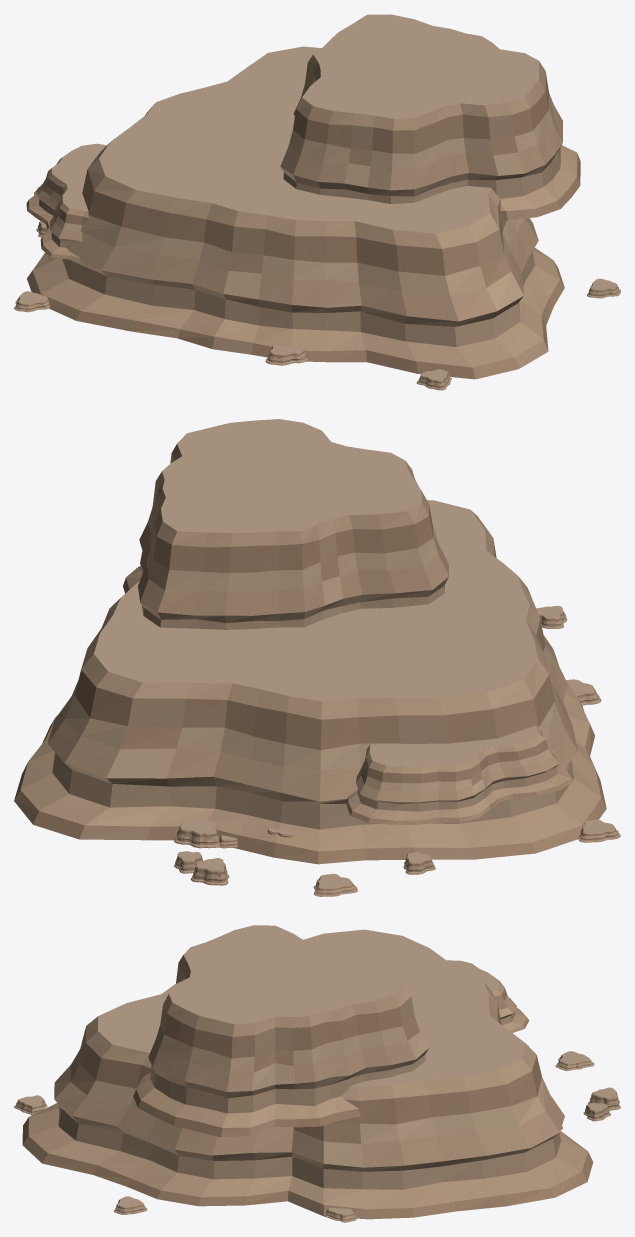
The model's file is RoadCutB.glb.
The picture shows the model from 3 angles, top to bottom: view 1: azimuth 30°, elevation 25°; view 2: azimuth 150°, elevation 25°; view 3: azimuth 270°, elevation 25°; orthographic projection. The views are drawn at different scales.
Visible parts, largest first — view 1: Collapsed quarry face, Offset bedrock crown, Detached low bench, Detached sandstone fragment.020, Detached sandstone fragment.015, Detached sandstone fragment.025; view 2: Collapsed quarry face, Offset bedrock crown, Detached low bench, Detached sandstone fragment.019, Detached sandstone fragment.024, Detached sandstone fragment.022, Detached sandstone fragment.015; view 3: Collapsed quarry face, Offset bedrock crown, Detached low bench, Detached sandstone fragment.022, Detached sandstone fragment.024, Detached sandstone fragment.025, Detached sandstone fragment.021.
Part boxes in pixels (bbox=[...]): Collapsed quarry face: bbox=[27, 46, 564, 379]; Offset bedrock crown: bbox=[280, 14, 580, 220]; Detached low bench: bbox=[26, 143, 106, 263]; Detached sandstone fragment.020: bbox=[265, 345, 307, 365]; Detached sandstone fragment.015: bbox=[14, 291, 50, 312]; Detached sandstone fragment.025: bbox=[416, 369, 451, 390]; Collapsed quarry face: bbox=[14, 500, 606, 864]; Offset bedrock crown: bbox=[123, 419, 448, 629]; Detached low bench: bbox=[346, 725, 573, 824]; Detached sandstone fragment.019: bbox=[174, 820, 219, 848]; Detached sandstone fragment.024: bbox=[191, 858, 229, 885]; Detached sandstone fragment.022: bbox=[313, 873, 357, 896]; Detached sandstone fragment.015: bbox=[578, 819, 620, 842]; Collapsed quarry face: bbox=[22, 929, 593, 1219]; Offset bedrock crown: bbox=[133, 925, 429, 1137]; Detached low bench: bbox=[447, 960, 529, 1032]; Detached sandstone fragment.022: bbox=[555, 1051, 594, 1070]; Detached sandstone fragment.024: bbox=[588, 1087, 620, 1110]; Detached sandstone fragment.025: bbox=[14, 1095, 47, 1114]; Detached sandstone fragment.021: bbox=[114, 1196, 147, 1214].
Size of the model in its own units: 7.71 by 2.9 by 8.78.
